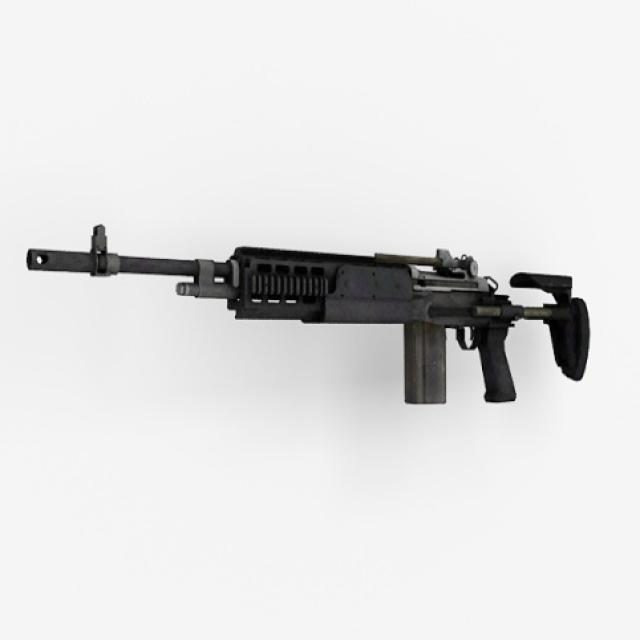Gun: (21, 218, 606, 422)
